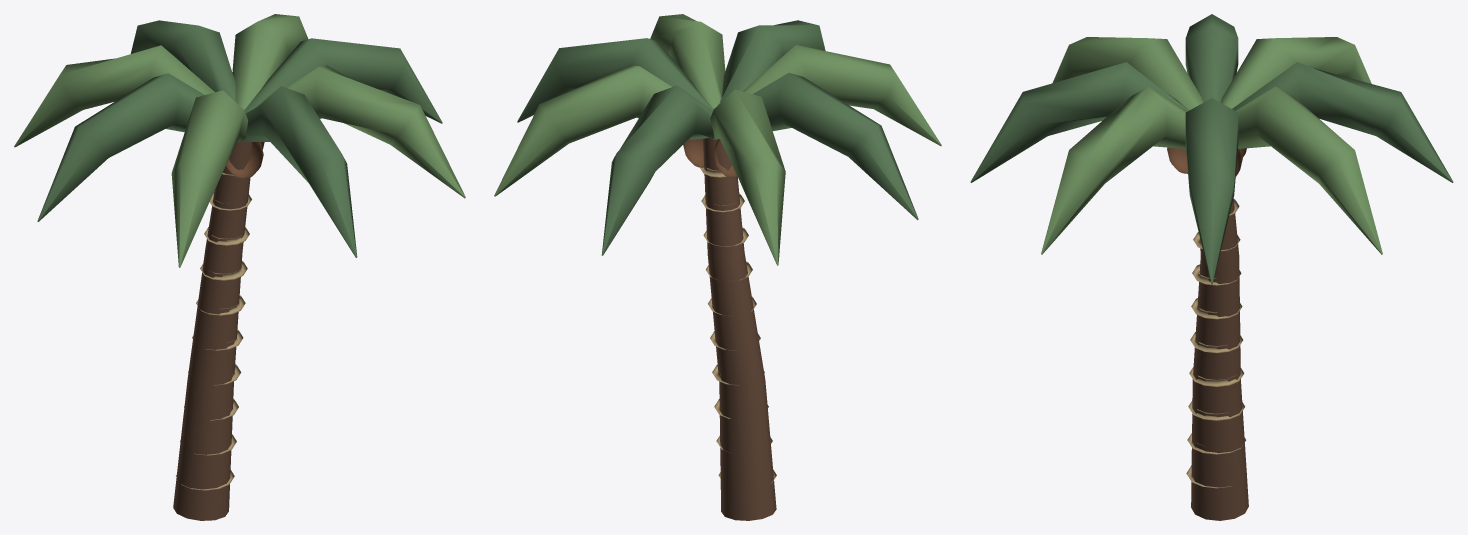
Rendered from island-palm.glb.
The picture shows the model from 3 angles, left to right: view 1: azimuth 30°, elevation 25°; view 2: azimuth 150°, elevation 25°; view 3: azimuth 270°, elevation 25°; orthographic projection. The views are drawn at different scales.
Visible parts, largest first — view 1: shell; view 2: shell; view 3: shell.
Part boxes in pixels (<box>): shell: <box>14,14,465,520</box>; shell: <box>494,14,941,520</box>; shell: <box>970,14,1453,520</box>.
Size of the model in its own units: 3.01 by 3.19 by 3.01.
